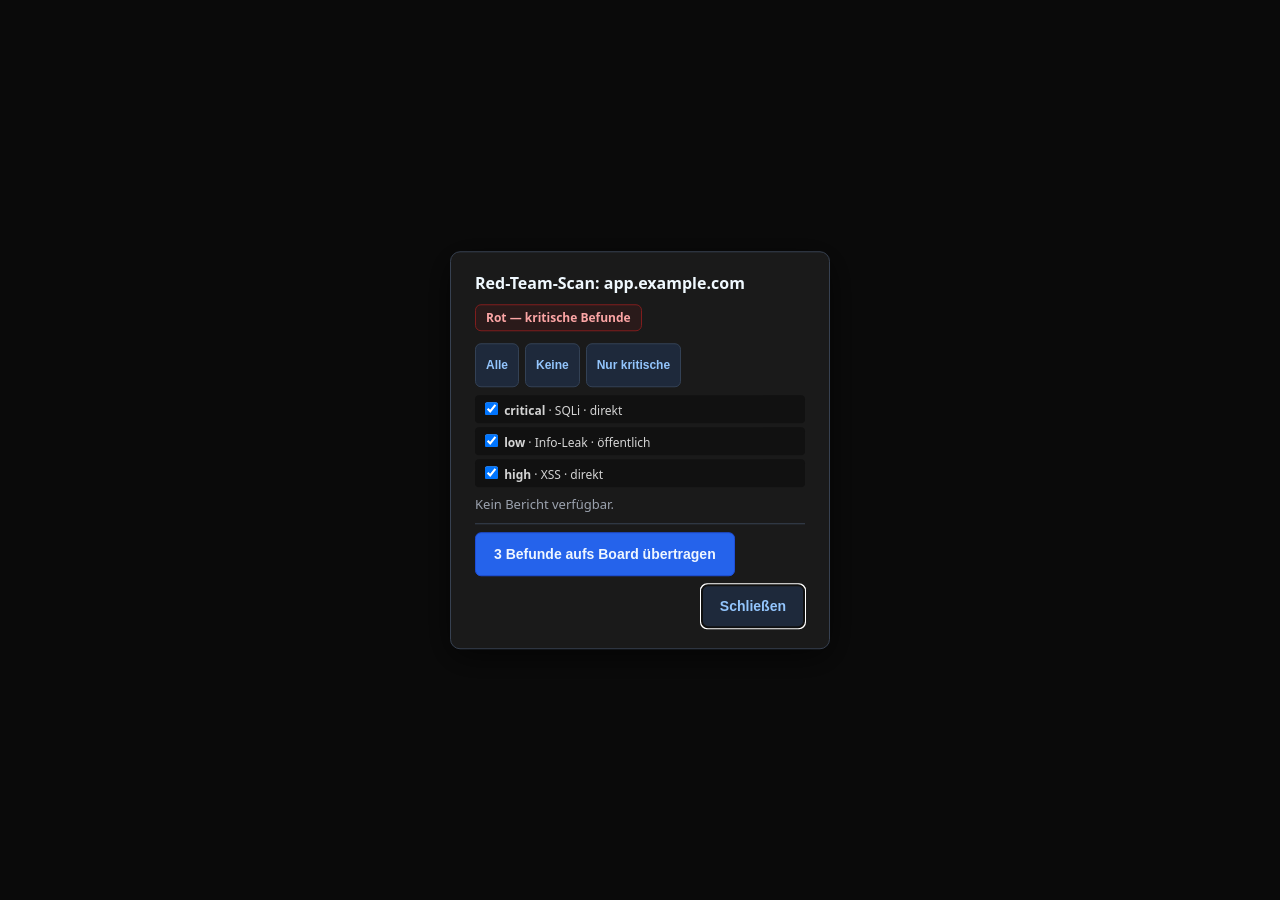
RedTeamScanPanel — AC19: Sticky Sammel-Button + Rückfrage › Zahl zählt live mit, Button bei 0 Auswahl gesperrt
Expected: the button with test id "redteam-board-transfer-btn" shows "3 Befunde", [475,532,735,576]
Expected: the button with test id "redteam-board-transfer-btn" is enabled, [475,532,735,576]
Click the button with test id "redteam-select-none".
click(552, 365)  # box [525,343,580,387]
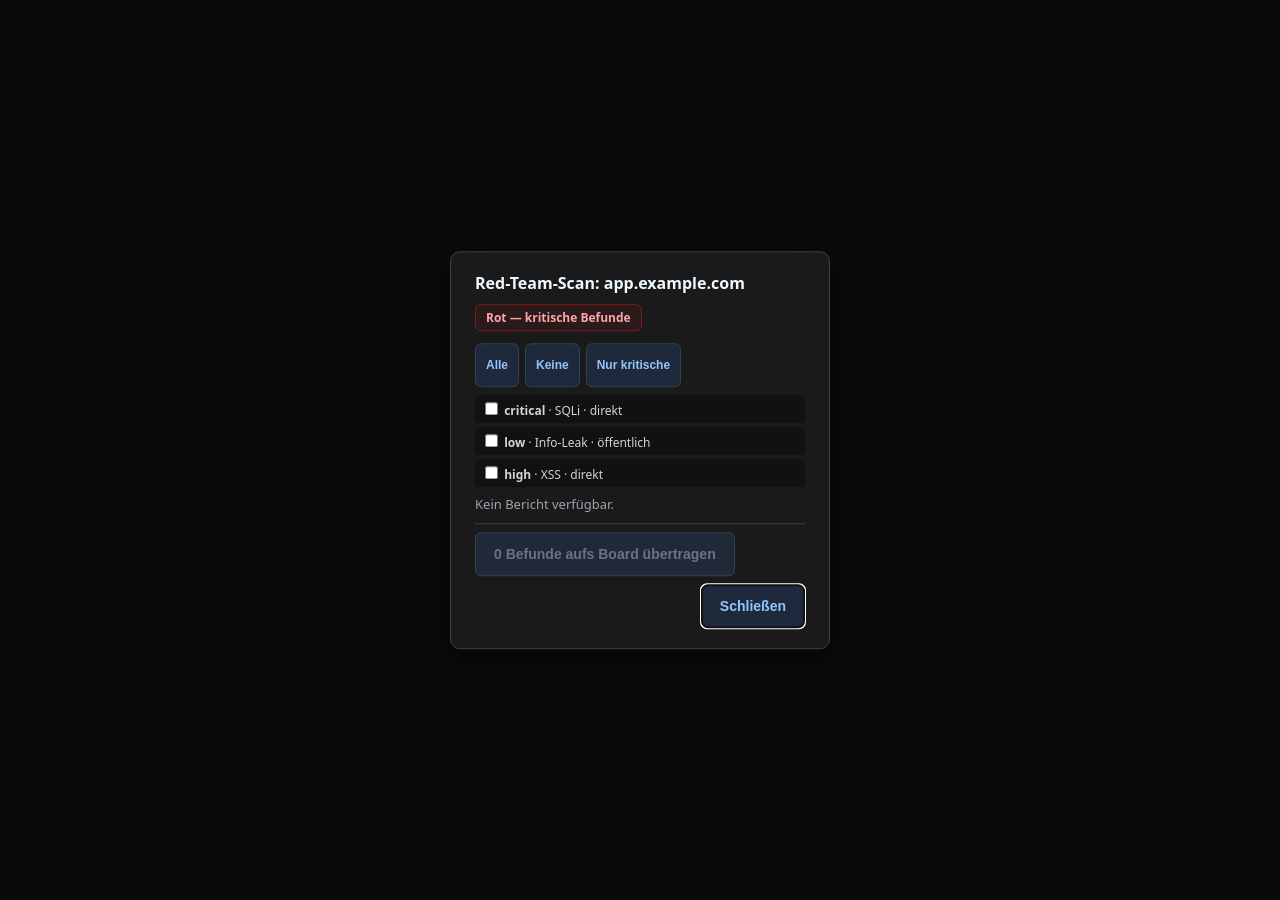
Expected: the button with test id "redteam-board-transfer-btn" shows "0 Befunde", [475,532,735,576]
Expected: the button with test id "redteam-board-transfer-btn" is disabled, [475,532,735,576]
